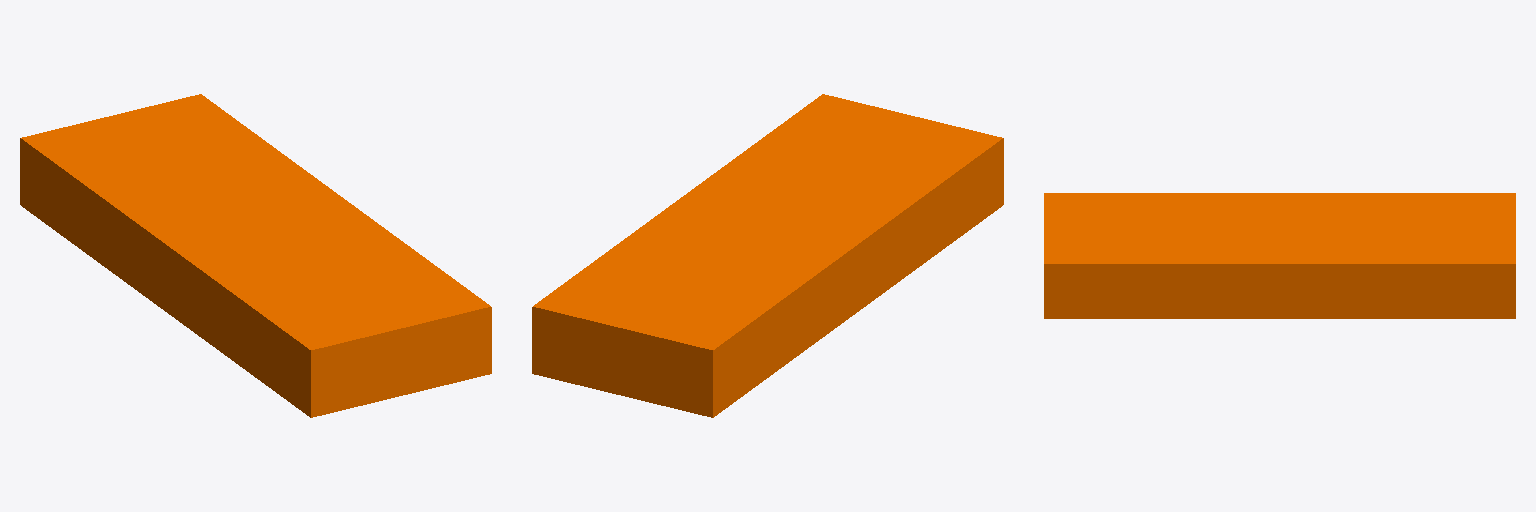
URDF robot description (phobos):
<?xml version="1.0" ?>
<!-- =================================================================================== -->
<!-- |    This document was autogenerated by xacro from phobos_scene.urdf.xacro        | -->
<!-- |    EDITING THIS FILE BY HAND IS NOT RECOMMENDED                                 | -->
<!-- =================================================================================== -->
<!--
Copyright (c) 2019, I3D Robotics Ltd.
-->
<robot name="phobos" xmlns:xacro="http://ros.org/wiki/xacro">
  <link name="phobos_cameraLeft_optical"/>
  <link name="phobos_cameraRight_optical"/>
  <link name="phobos_cameraLeft"/>
  <link name="phobos_cameraRight"/>
  <link name="phobos_base_link"/>
  <link name="phobos_center">
    <visual>
      <origin rpy="0 0 0" xyz="0 0 0"/>
      <geometry>
        <box size="0.14 0.39 0.05"/>
      </geometry>
      <material name="phobos_camera_colour">
        <color rgba="1 0.5 0 1"/>
      </material>
    </visual>
  </link>
  <joint name="phobos_right_camera_joint" type="fixed">
    <parent link="phobos_center"/>
    <child link="phobos_cameraRight"/>
    <origin rpy="0 0 0" xyz="0 -0.15 0"/>
  </joint>
  <joint name="phobos_left_camera_joint" type="fixed">
    <parent link="phobos_center"/>
    <child link="phobos_cameraLeft"/>
    <origin rpy="0 0 0" xyz="0 0.15 0"/>
  </joint>
  <joint name="phobos_left_optical_joint" type="fixed">
    <parent link="phobos_cameraLeft"/>
    <child link="phobos_cameraLeft_optical"/>
    <!-- Correct for the optical frame orientation -->
    <origin rpy="-1.57079632679 0 -1.71042232679" xyz="0 0 0"/>
  </joint>
  <joint name="phobos_right_optical_joint" type="fixed">
    <parent link="phobos_cameraRight"/>
    <child link="phobos_cameraRight_optical"/>
    <!-- Correct for the optical frame orientation -->
    <origin rpy="-1.57079632679 0 -1.43117032679" xyz="0 0 0"/>
  </joint>
  <sensor name="phobos_right_camera_sensor" update_rate="60">
    <parent link="phobos_cameraRight_optical"/>
    <origin rpy="0 0 0" xyz="0 0 0"/>
    <camera>
      <image far="1.25" format="RGB8" height="2048" hfov="1.05" near="0.8" width="2448"/>
    </camera>
  </sensor>
  <joint name="phobos_mount_center_joint" type="fixed">
    <parent link="phobos_base_link"/>
    <child link="phobos_center"/>
    <origin rpy="0 0 0" xyz="0.07 0 0.025"/>
  </joint>
</robot>

--- Render facts (derived) ---
3 views of the same robot in one strip: view 1: azimuth 30°, elevation 25°; view 2: azimuth 150°, elevation 25°; view 3: azimuth 270°, elevation 25° (orthographic).
Robot: phobos — 6 links, 5 joints (5 fixed); root link phobos_base_link; default pose: every joint at zero.
Links seen in each view (by area): view 1: phobos_center; view 2: phobos_center; view 3: phobos_center.
Boxes of the visible links, left/top/right/bottom form: phobos_center: left=20, top=94, right=491, bottom=417; phobos_center: left=532, top=94, right=1003, bottom=417; phobos_center: left=1044, top=193, right=1515, bottom=318.
Bounding box of the posed robot: 0.14 × 0.39 × 0.05 m (x, y, z).
Geometry: primitives only (box / cylinder / sphere), no mesh files.